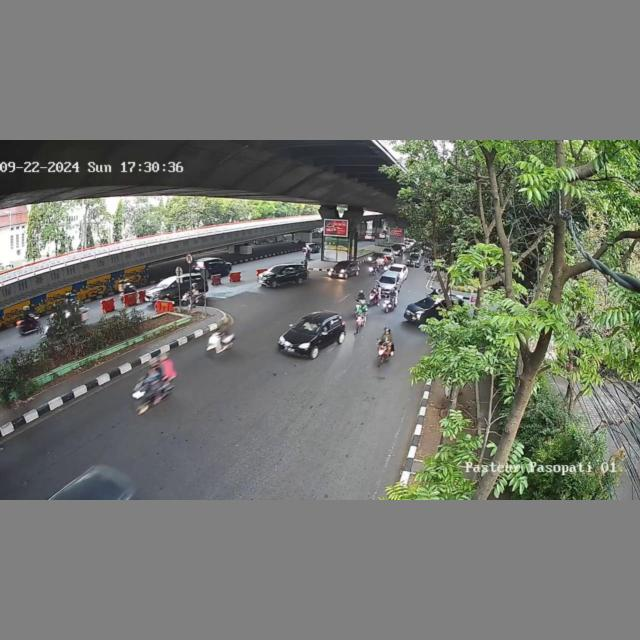windshield: (293, 318, 323, 337), (378, 277, 397, 284)
